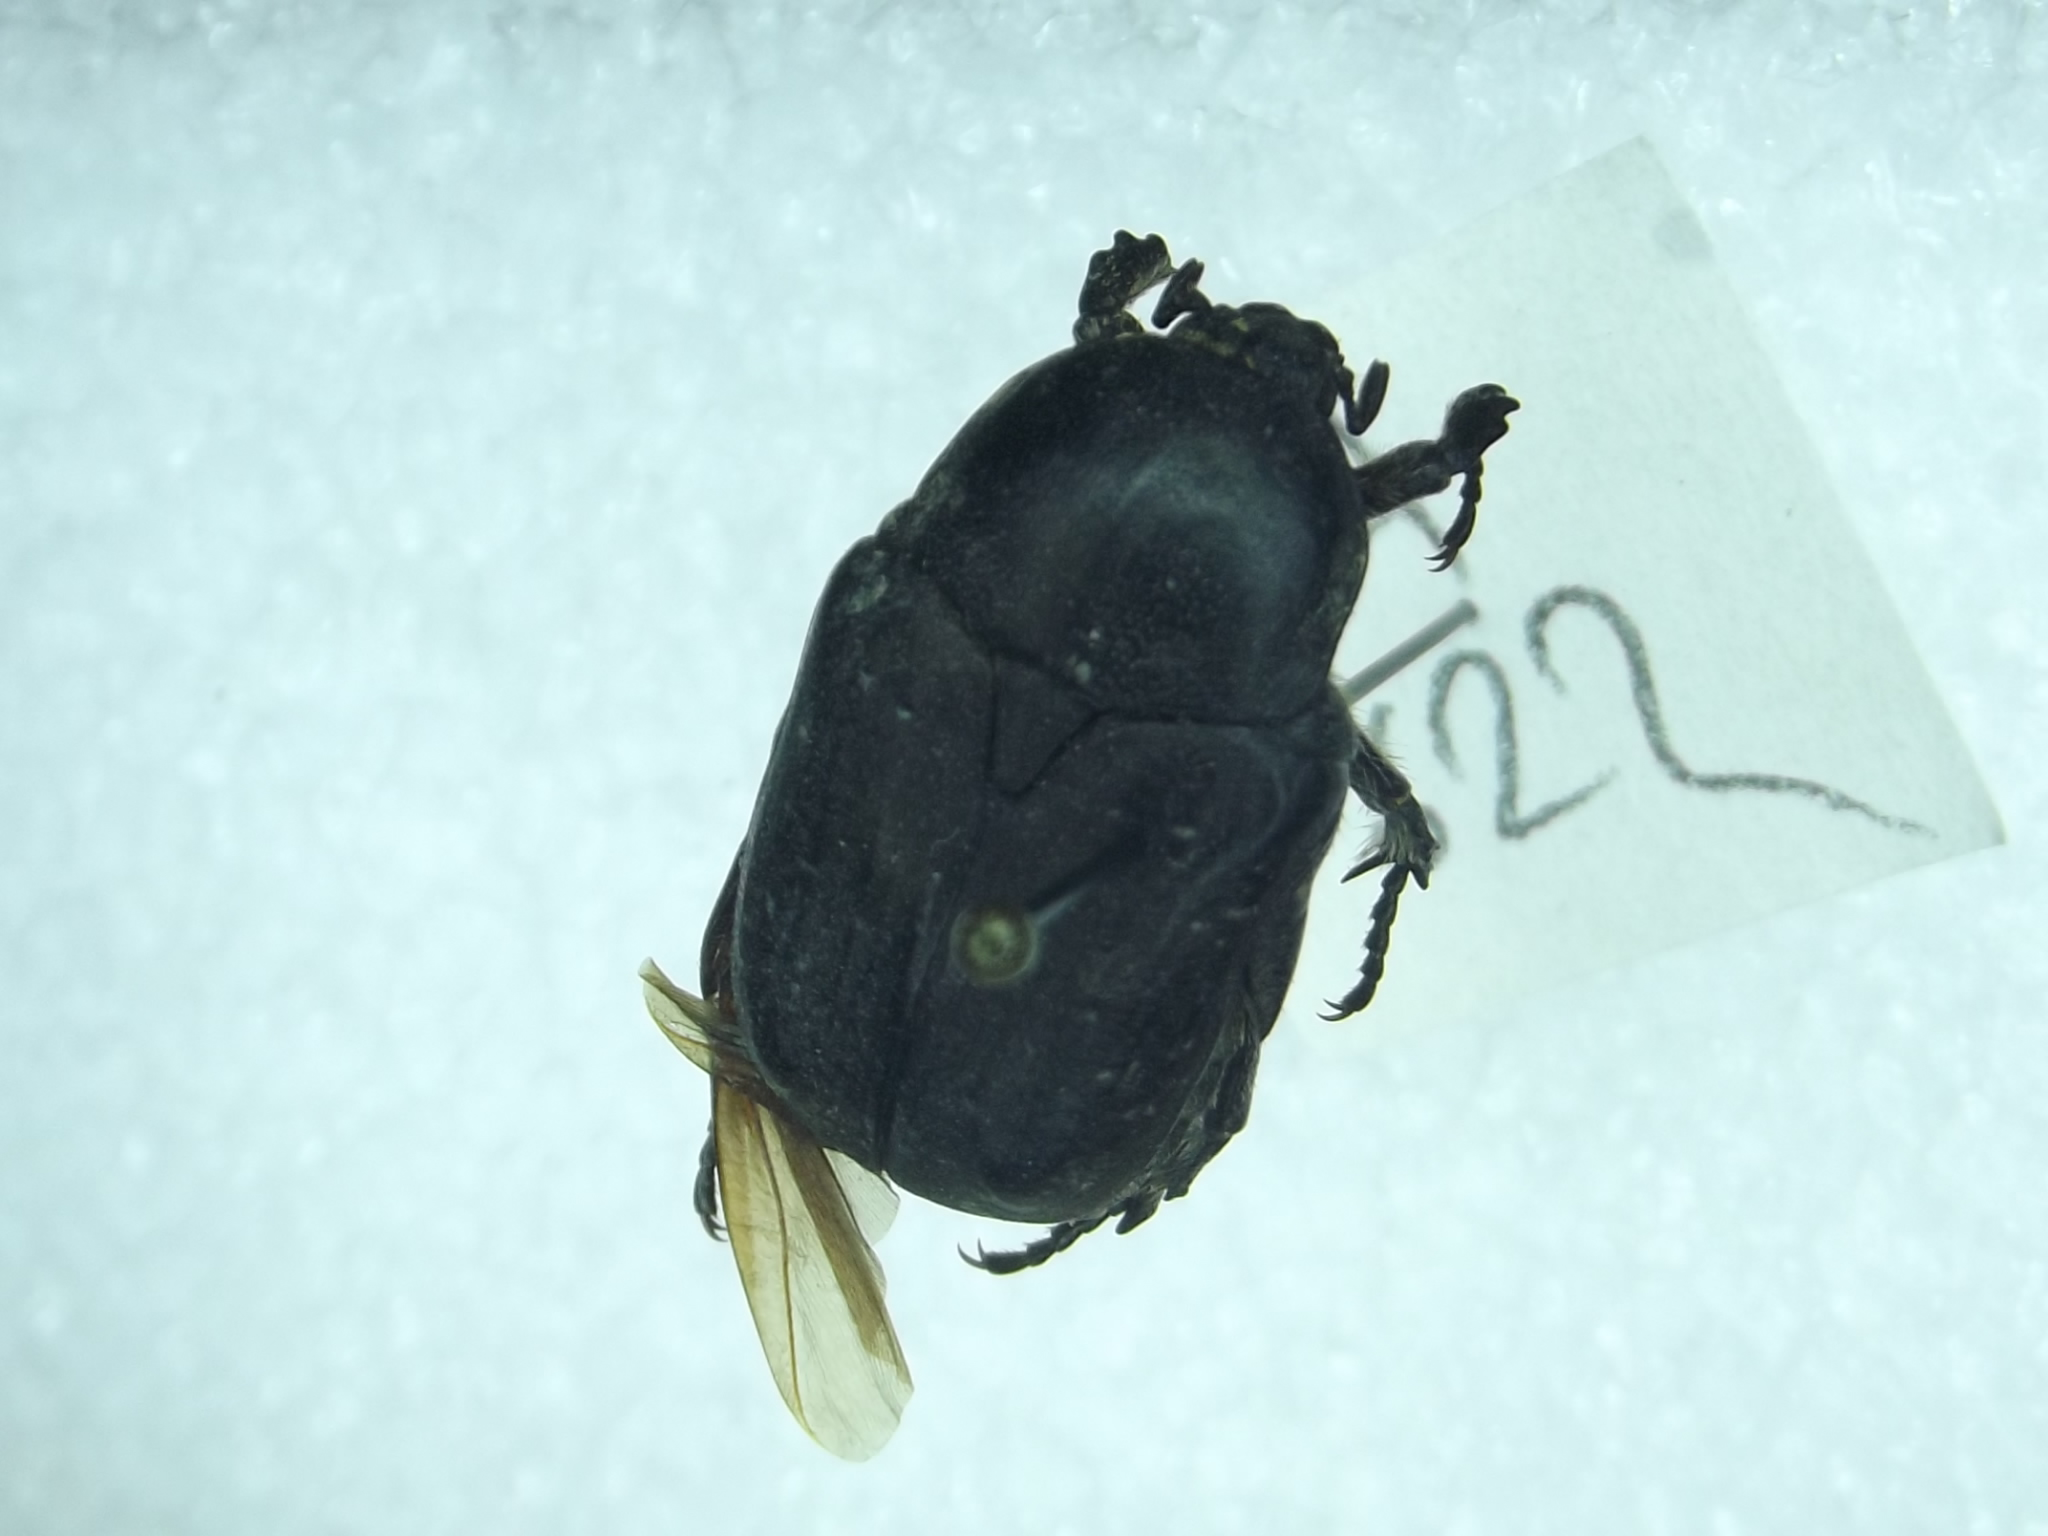Protaetia_asiatica: (614, 207, 1543, 1439)
